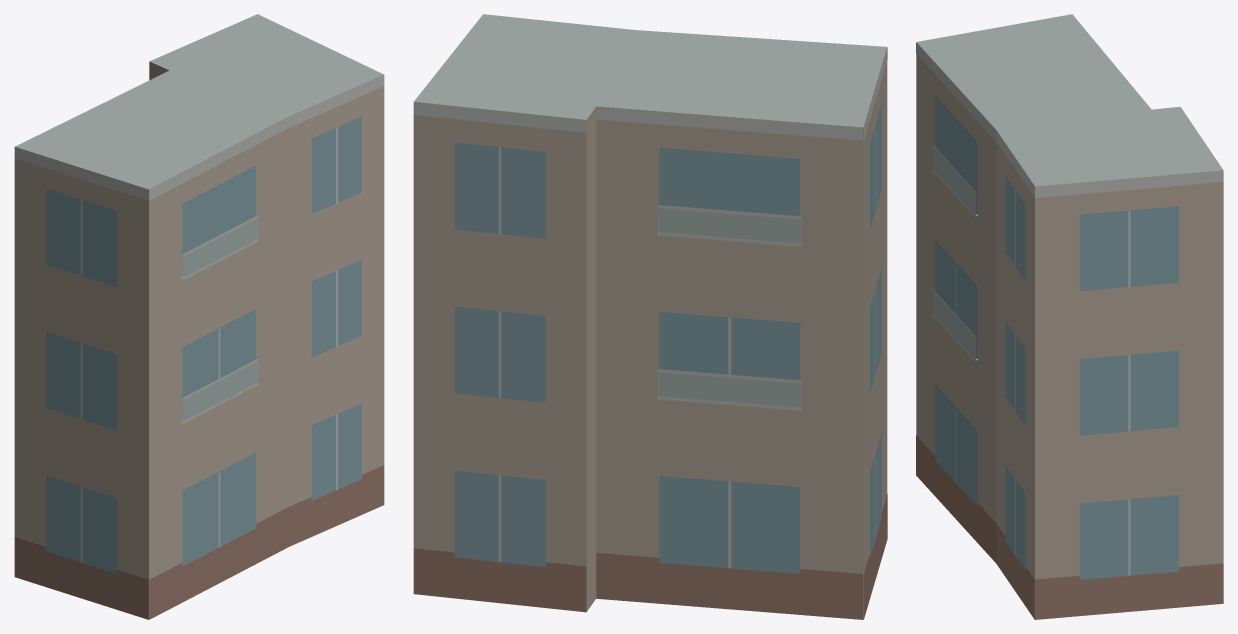
Rendered from survey-upis-32753552.glb.
3 views of the same model, side by side, from view 1: azimuth 30°, elevation 25°; view 2: azimuth 150°, elevation 25°; view 3: azimuth 270°, elevation 25° (orthographic). The views are drawn at different scales.
Visible parts, largest first — view 1: survey-upis-32753552.tmp; view 2: survey-upis-32753552.tmp; view 3: survey-upis-32753552.tmp.
Part boxes in pixels (box(x1,y1,x2,y2)): survey-upis-32753552.tmp: box(14, 14, 384, 619); survey-upis-32753552.tmp: box(413, 14, 887, 619); survey-upis-32753552.tmp: box(916, 14, 1223, 619).
Bounding box in the file's own units: 7.82 × 9.15 × 5.89.
